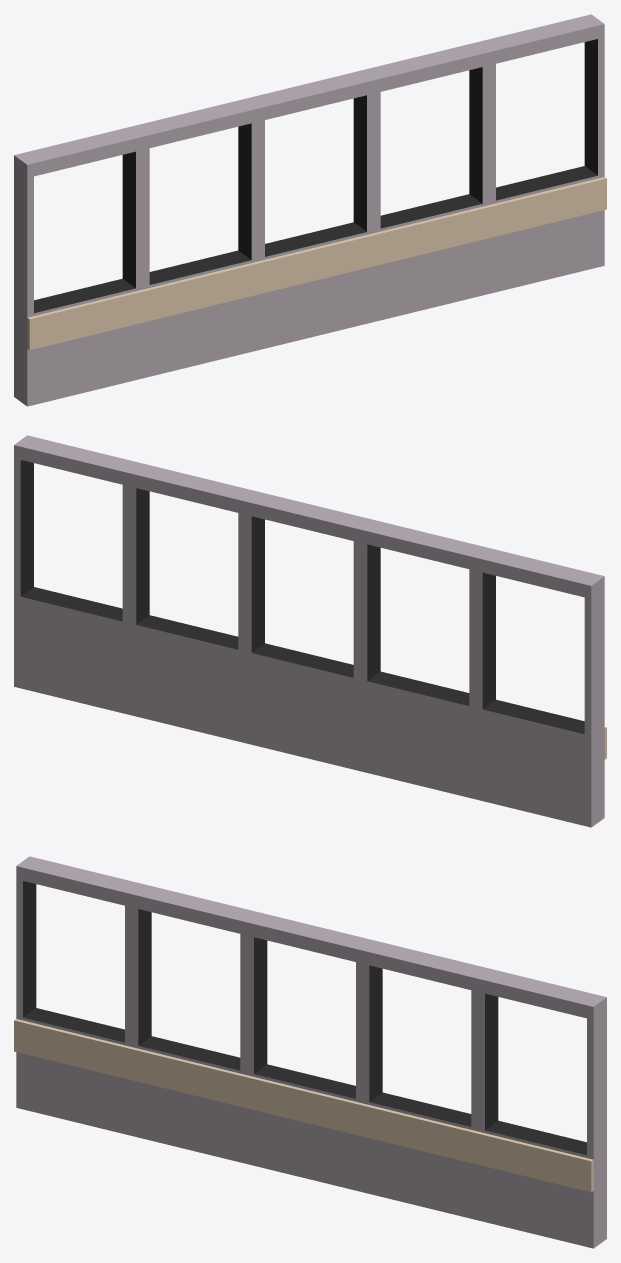
The model's file is window.fbx.
The picture shows the model from 3 angles, top to bottom: view 1: azimuth 30°, elevation 25°; view 2: azimuth 150°, elevation 25°; view 3: azimuth 330°, elevation 25°; orthographic projection.
Parts seen in each view (by area): view 1: Cube.001; view 2: Cube.001; view 3: Cube.001.
Boxes of the visible parts, left/top/right/bottom form: Cube.001: left=14, top=14, right=606, bottom=406; Cube.001: left=14, top=435, right=606, bottom=827; Cube.001: left=14, top=856, right=606, bottom=1248.
Size of the model in its own units: 29.17 by 250 by 625.
